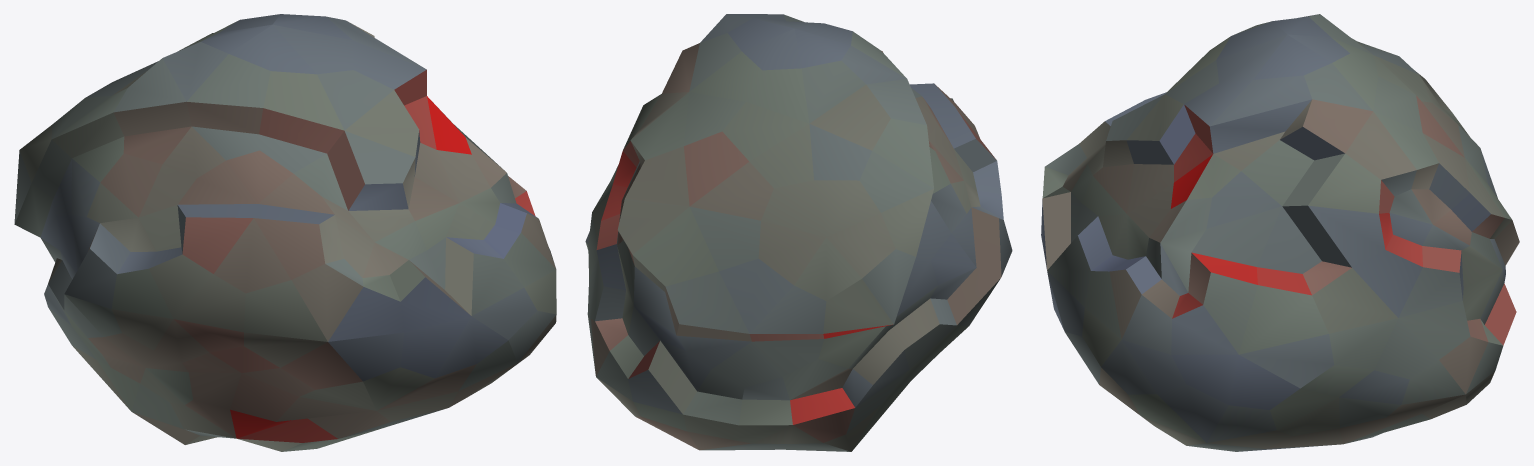
Rendered from rock_1.fbx.
The picture shows the model from 3 angles, left to right: view 1: azimuth 30°, elevation 25°; view 2: azimuth 150°, elevation 25°; view 3: azimuth 270°, elevation 25°; orthographic projection. The views are drawn at different scales.
Parts seen in each view (by area): view 1: Mesh; view 2: Mesh; view 3: Mesh.
Boxes of the visible parts, x1,y1,x2,y2 form: Mesh: [14, 14, 556, 451]; Mesh: [585, 14, 1012, 451]; Mesh: [1041, 14, 1519, 451].
Bounding box in the file's own units: 98.08 × 89.27 × 99.73.
